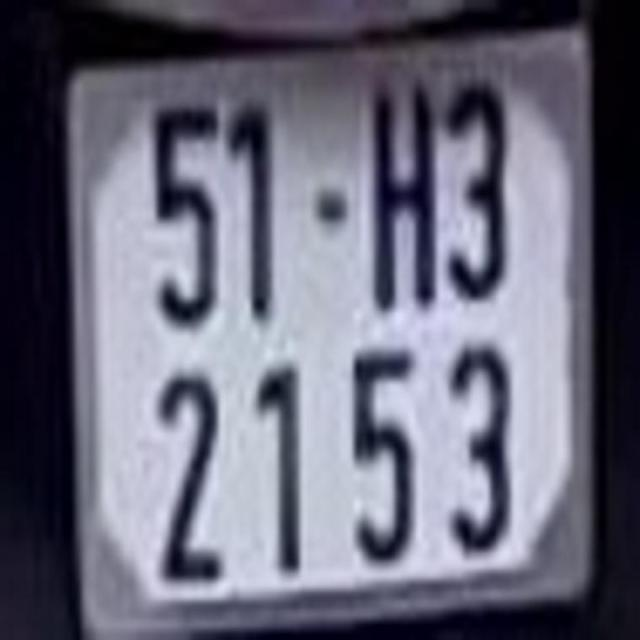1: (256, 362, 308, 569), (235, 111, 279, 308)
2: (159, 368, 225, 586)
3: (448, 356, 515, 551), (452, 91, 506, 304)
5: (145, 112, 226, 315), (350, 348, 420, 558)
H: (370, 99, 436, 308)
